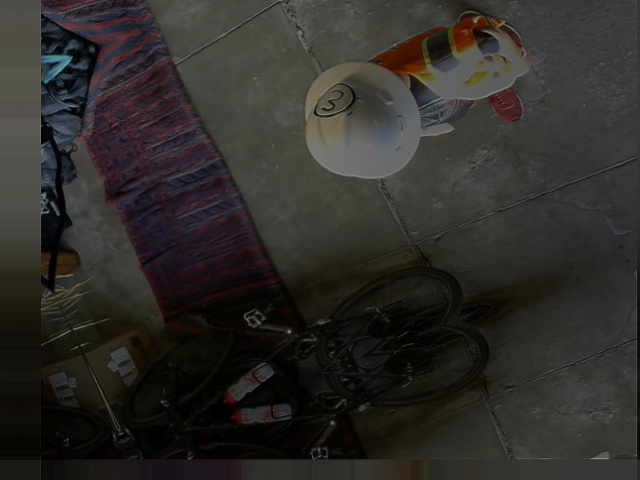three: (306, 79, 359, 120)
